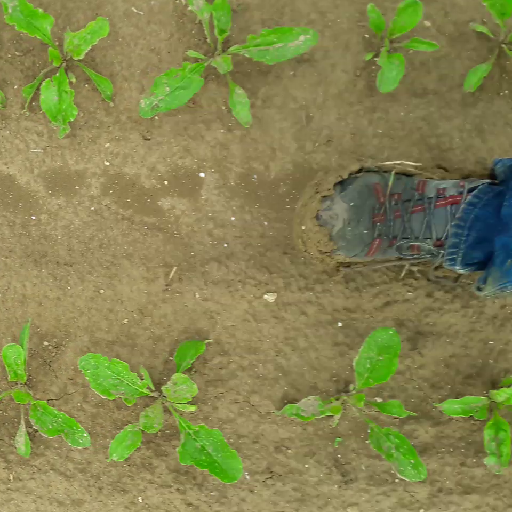sugarbeet: (273, 322, 429, 483), (75, 339, 244, 485), (139, 1, 320, 130), (6, 1, 116, 133), (1, 317, 90, 459), (432, 374, 512, 474), (358, 1, 439, 93), (461, 1, 512, 94)
